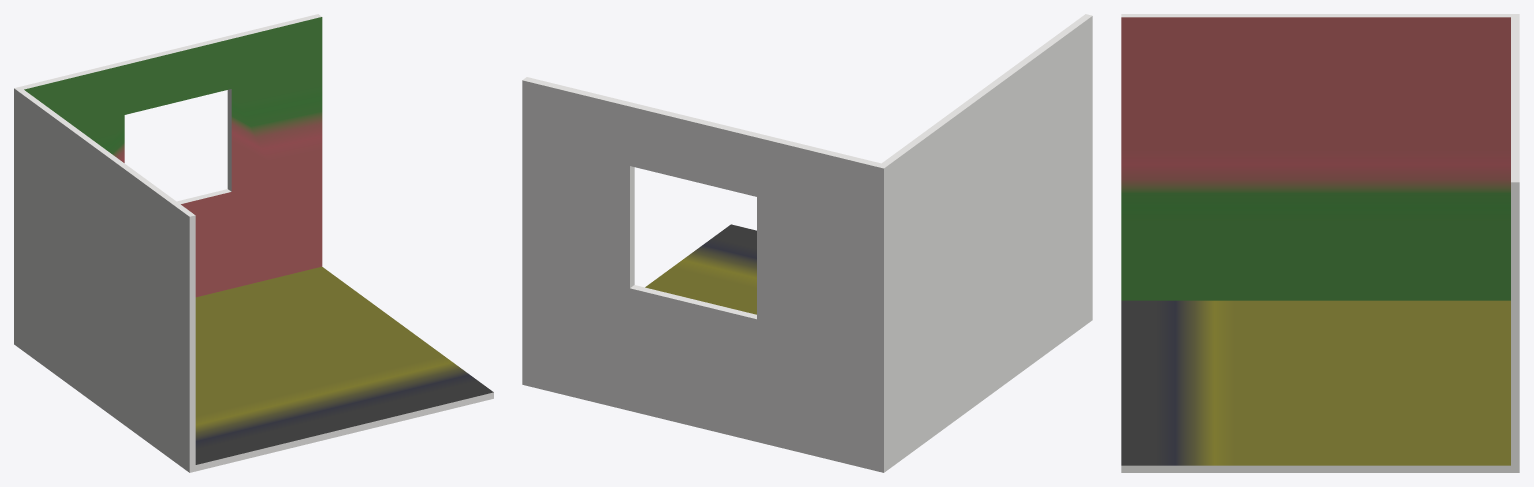
Rendered from Kitchen_2_Base.fbx.
The picture shows the model from 3 angles, left to right: view 1: azimuth 30°, elevation 25°; view 2: azimuth 150°, elevation 25°; view 3: azimuth 270°, elevation 25°; orthographic projection. The views are drawn at different scales.
Parts seen in each view (by area): view 1: Kitchen_2_Base; view 2: Kitchen_2_Base; view 3: Kitchen_2_Base.
Part boxes in pixels (left/top/right/bottom): Kitchen_2_Base: left=14, top=14, right=493, bottom=472; Kitchen_2_Base: left=522, top=14, right=1092, bottom=472; Kitchen_2_Base: left=1121, top=14, right=1519, bottom=472.
Size of the model in its own units: 500 by 402 by 500.
